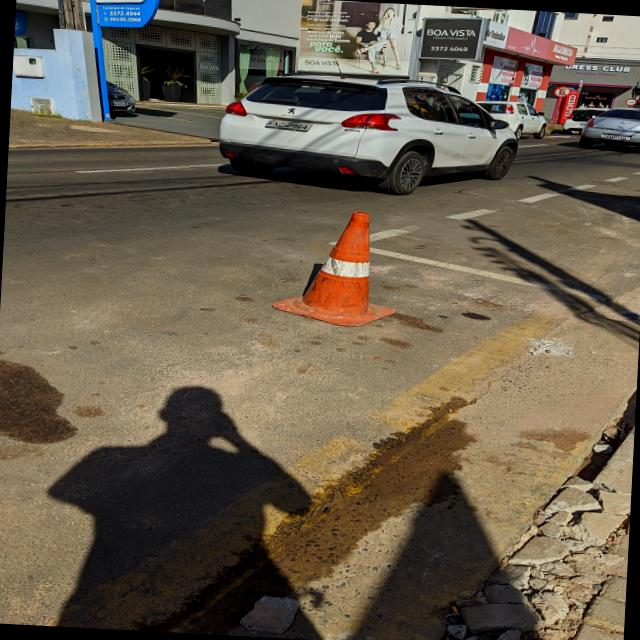cone: (267, 204, 405, 332)
